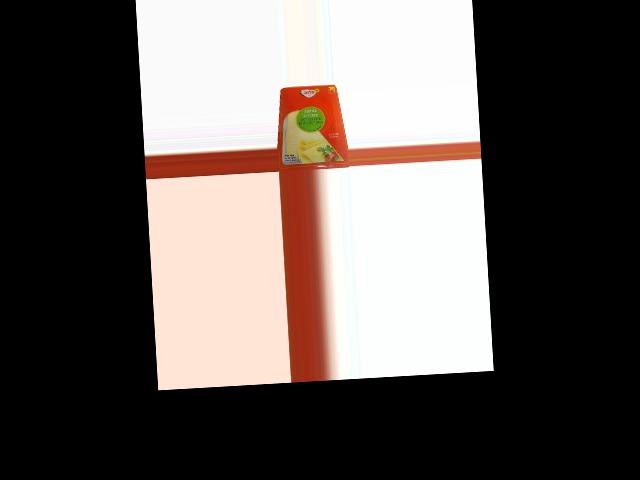cheese: (275, 84, 350, 171)
